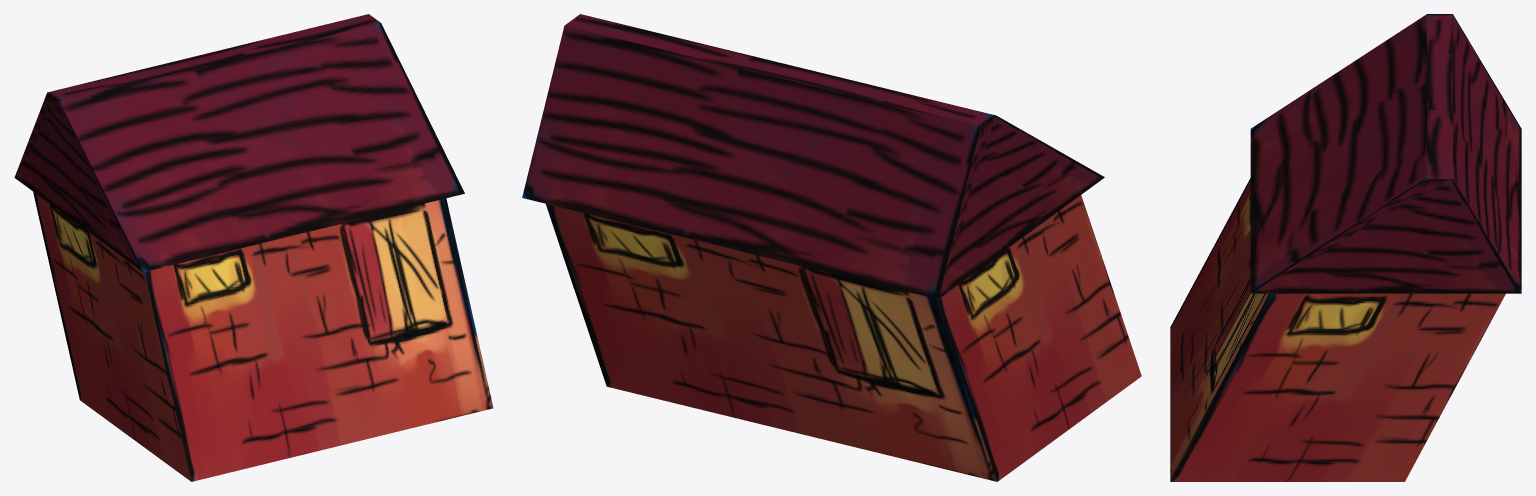
File: Houce.fbx
3 renders of one model, left to right at view 1: azimuth 30°, elevation 25°; view 2: azimuth 150°, elevation 25°; view 3: azimuth 270°, elevation 25°, orthographic. The views are drawn at different scales.
Visible parts, largest first — view 1: Cube; view 2: Cube; view 3: Cube.
Boxes of the visible parts, left/top/right/bottom form: Cube: left=14, top=14, right=493, bottom=481; Cube: left=522, top=14, right=1141, bottom=481; Cube: left=1170, top=14, right=1521, bottom=481.
Size of the model in its own units: 322 by 281 by 290.
